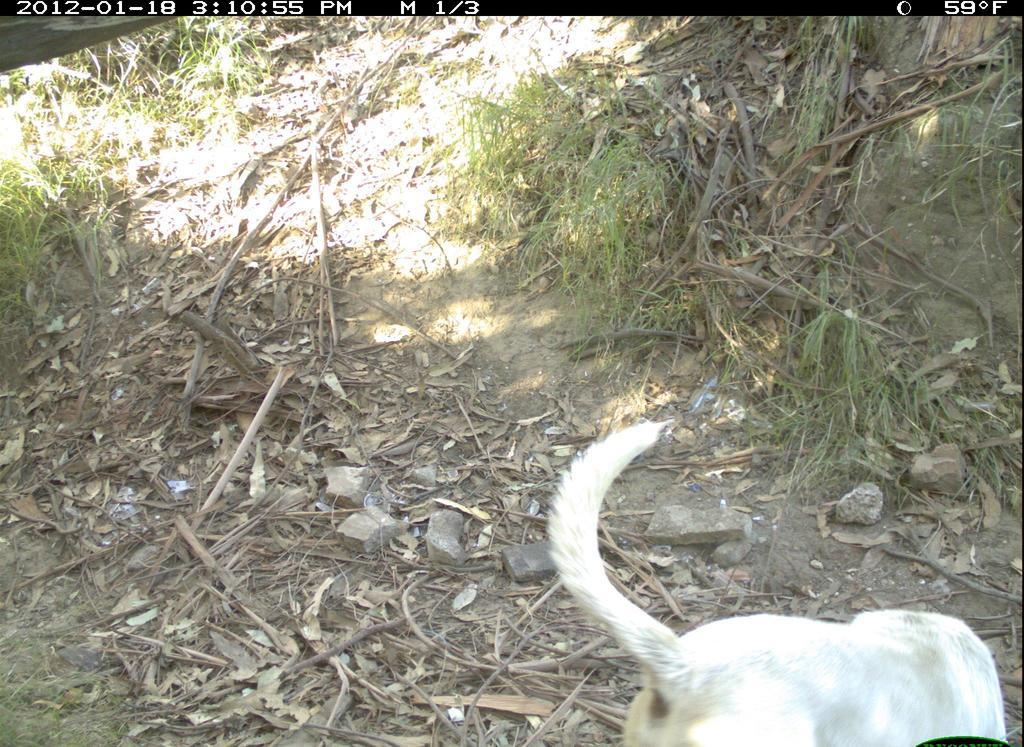dog: (545, 420, 1009, 740)
